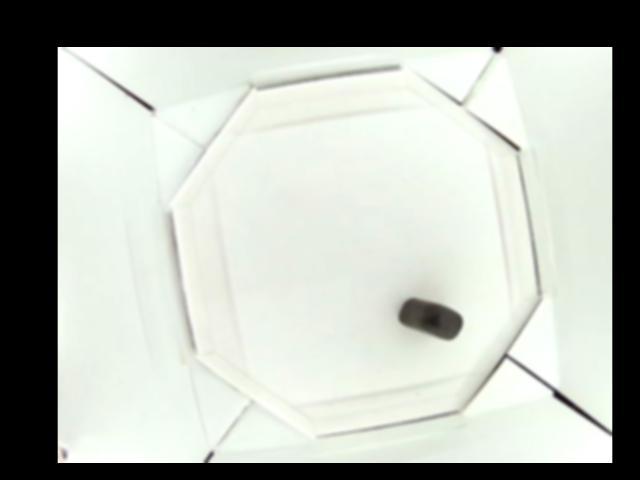Pebble: (400, 296, 463, 343)
